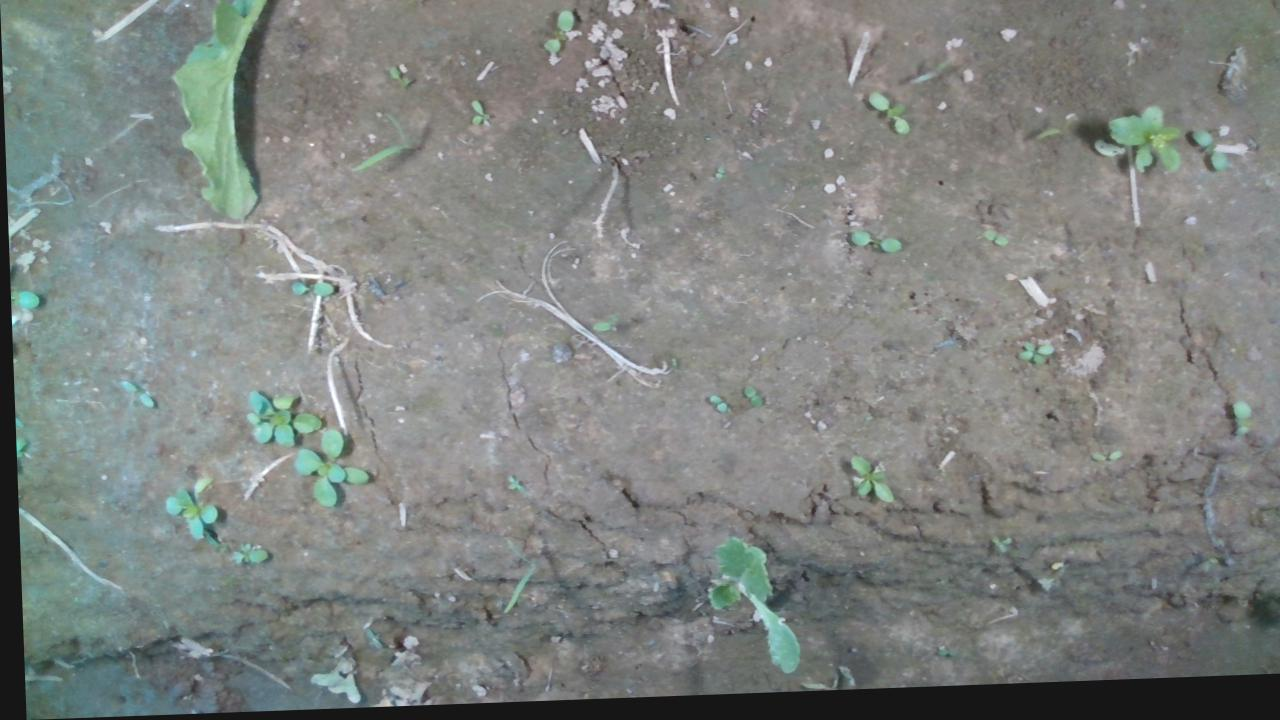weed: (843, 458, 890, 511), (863, 96, 910, 141), (1188, 135, 1227, 183), (542, 11, 575, 56), (847, 234, 900, 261), (222, 541, 264, 566), (1013, 348, 1052, 374), (286, 280, 333, 300), (1226, 407, 1249, 447), (466, 101, 491, 132), (738, 387, 762, 413), (383, 66, 409, 90), (587, 316, 615, 337), (1084, 457, 1121, 472), (979, 235, 1006, 253), (702, 396, 724, 418), (984, 542, 1008, 559), (500, 476, 520, 495), (724, 0, 757, 3)
